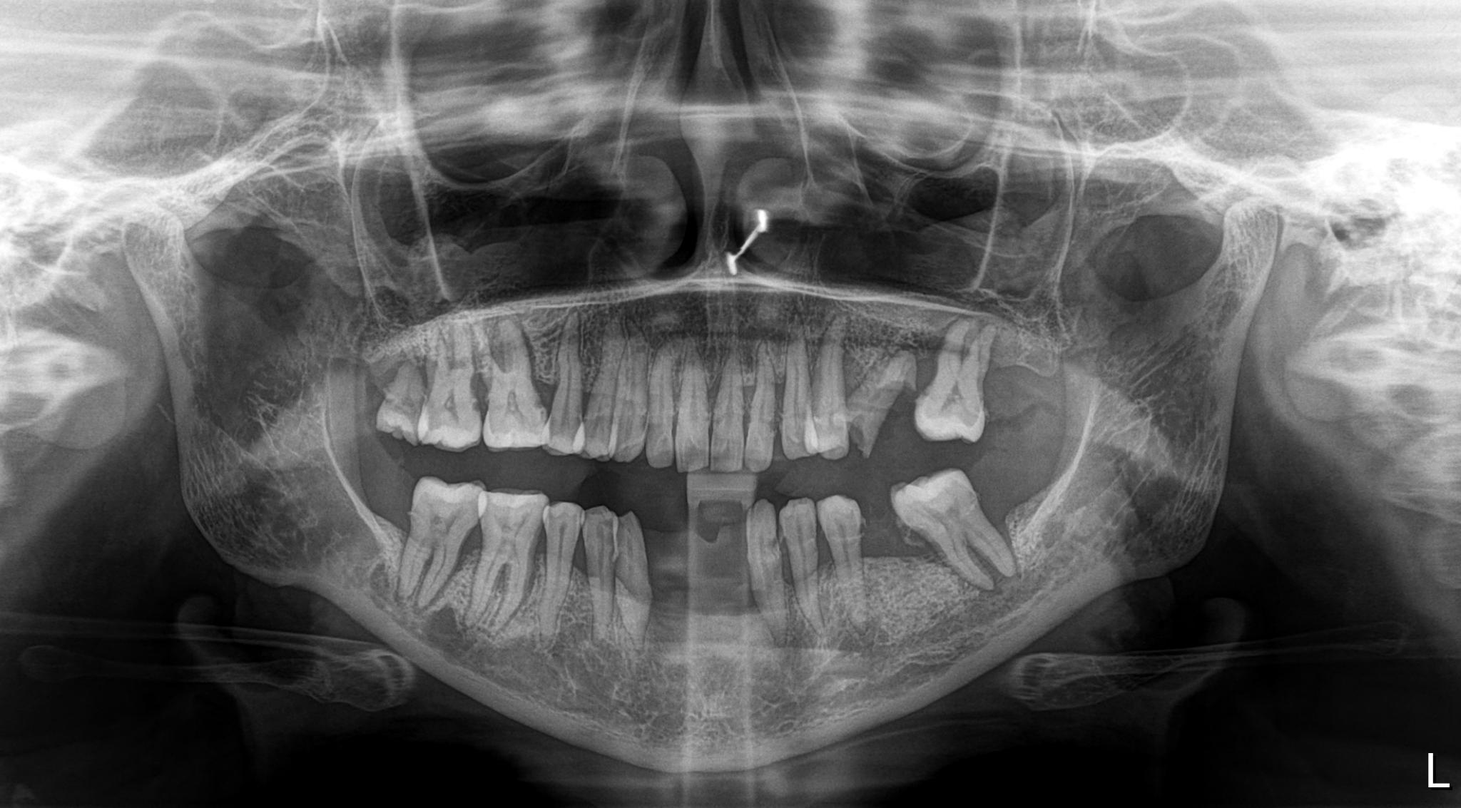Impacted Third Molar: (325, 346, 383, 436)
Missing Tooth: (984, 458, 1088, 535), (867, 513, 932, 622), (346, 451, 404, 551), (651, 530, 700, 634), (710, 526, 747, 639), (992, 346, 1032, 440), (1040, 351, 1074, 433)
Retained Root: (854, 333, 910, 450)
